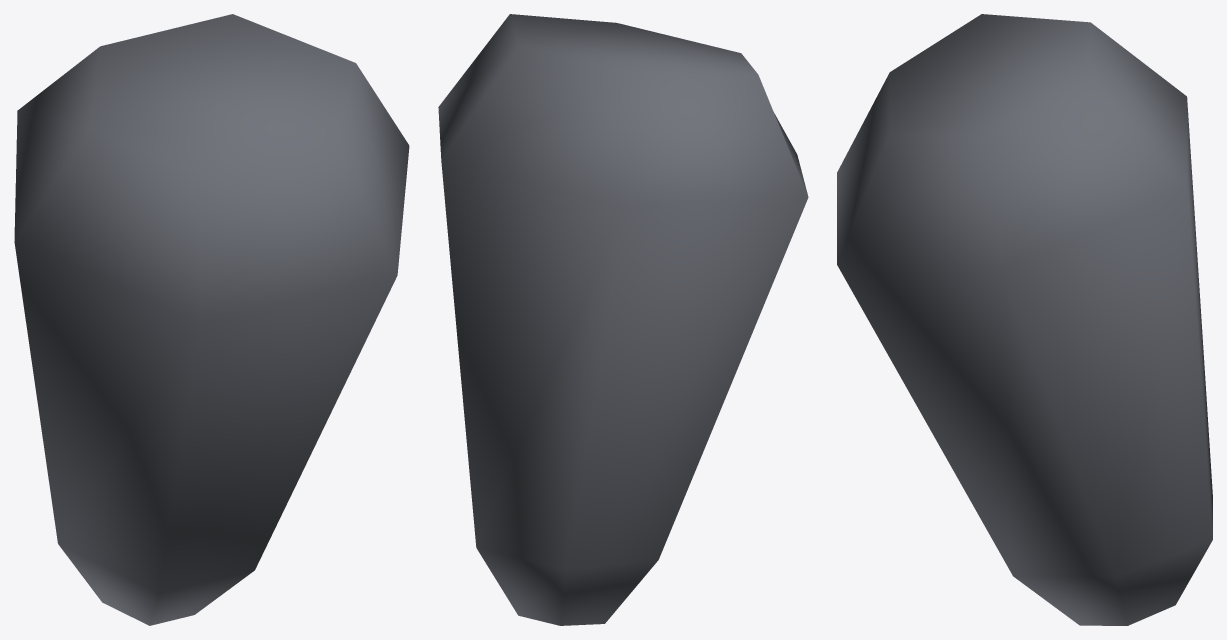
The model's file is Char_FL_Body4.FBX.
3 renders of one model, left to right at view 1: azimuth 30°, elevation 25°; view 2: azimuth 150°, elevation 25°; view 3: azimuth 270°, elevation 25°, orthographic. The views are drawn at different scales.
Visible parts, largest first — view 1: Cylinder002; view 2: Cylinder002; view 3: Cylinder002.
Part boxes in pixels (left/top/right/bottom): Cylinder002: left=14, top=14, right=409, bottom=625; Cylinder002: left=438, top=14, right=808, bottom=625; Cylinder002: left=837, top=14, right=1212, bottom=625.
Bounding box in the file's own units: 11.79 × 16.72 × 10.14.
